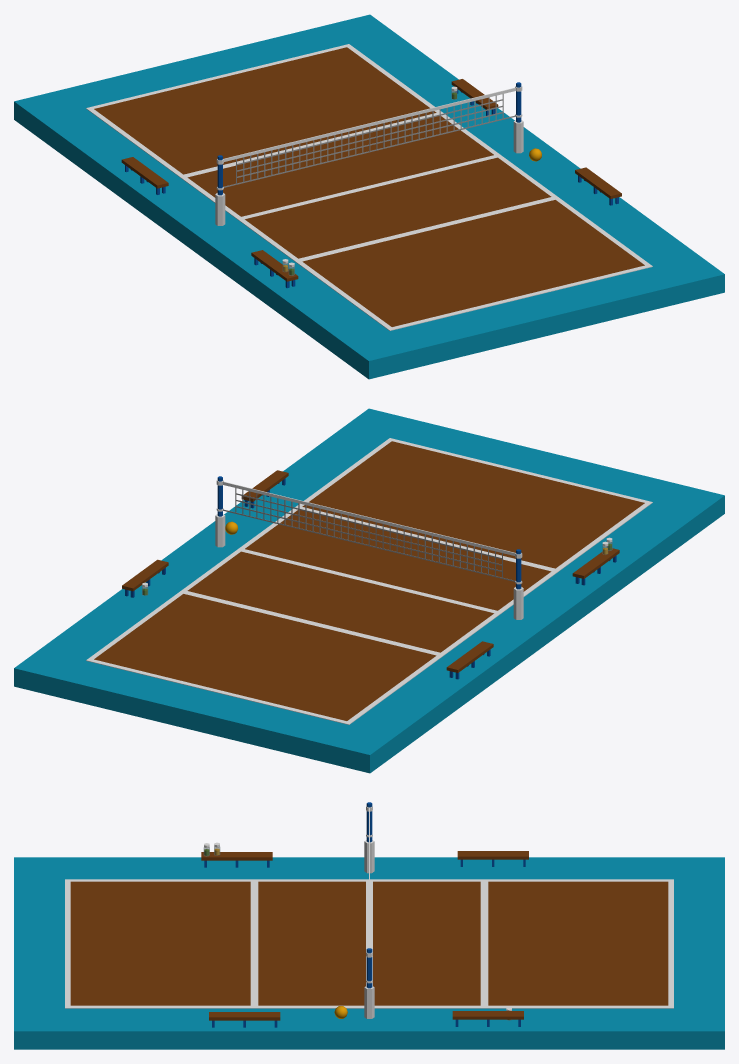
File: Volleyball court.fbx
3 renders of one model, top to bottom at view 1: azimuth 30°, elevation 25°; view 2: azimuth 150°, elevation 25°; view 3: azimuth 270°, elevation 25°, orthographic.
Visible parts, largest first — view 1: Plane088, Box191, Plane089, Cylinder158, Box198, Box199, Box200; view 2: Plane088, Box191, Plane089, Cylinder158, Box199, Box197, Box200, Box198; view 3: Plane088, Box191, Cylinder158, Box197, Box198, Box199, Box200.
Boxes of the visible parts, x1=… form: Plane088: x1=86, y1=44, x2=652, y2=330; Box191: x1=14, y1=14, x2=724, y2=379; Plane089: x1=223, y1=87, x2=516, y2=187; Cylinder158: x1=215, y1=82, x2=523, y2=225; Box198: x1=575, y1=167, x2=621, y2=205; Box199: x1=121, y1=157, x2=168, y2=194; Box200: x1=251, y1=250, x2=298, y2=288; Plane088: x1=86, y1=438, x2=652, y2=724; Box191: x1=14, y1=408, x2=724, y2=773; Plane089: x1=222, y1=481, x2=515, y2=581; Cylinder158: x1=215, y1=476, x2=523, y2=619; Box199: x1=446, y1=641, x2=493, y2=679; Box197: x1=122, y1=559, x2=168, y2=597; Box200: x1=572, y1=548, x2=619, y2=585; Box198: x1=241, y1=470, x2=288, y2=508; Plane088: x1=65, y1=879, x2=673, y2=1008; Box191: x1=14, y1=857, x2=724, y2=1049; Cylinder158: x1=364, y1=802, x2=374, y2=1018; Box197: x1=452, y1=1011, x2=523, y2=1026; Box198: x1=209, y1=1012, x2=280, y2=1027; Box199: x1=457, y1=851, x2=528, y2=866; Box200: x1=201, y1=852, x2=272, y2=867.
Bounding box in the file's own units: 1218 × 282 × 2102.
